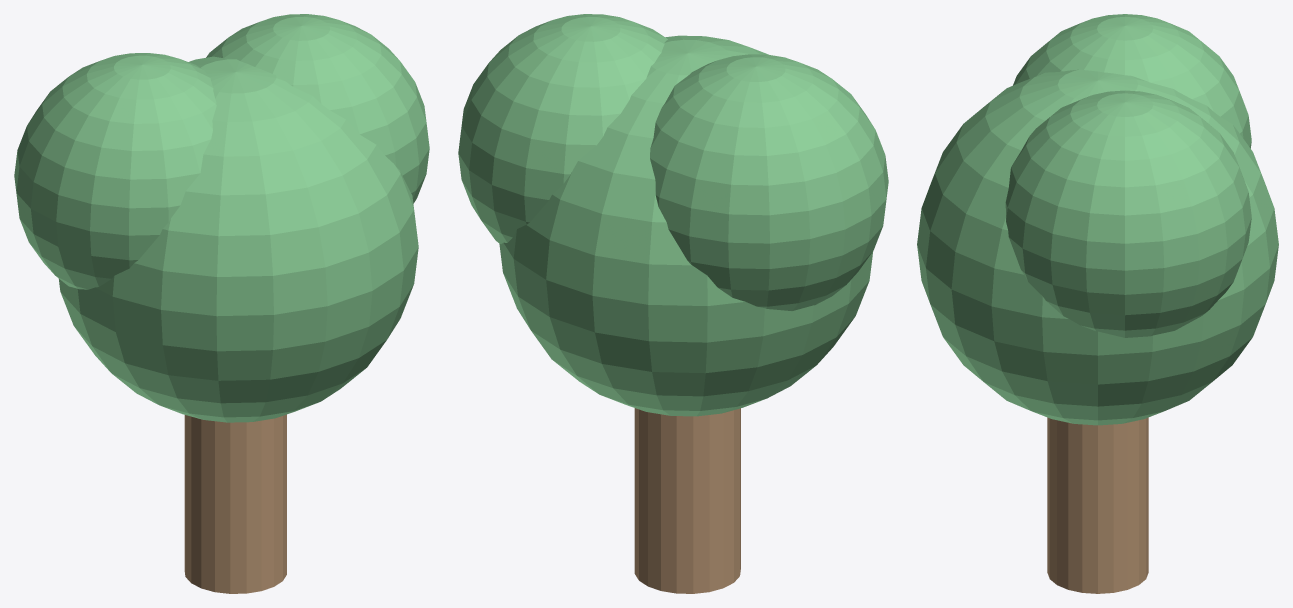
The model's file is appletree.glb.
3 renders of one model, left to right at view 1: azimuth 30°, elevation 25°; view 2: azimuth 150°, elevation 25°; view 3: azimuth 270°, elevation 25°, orthographic. The views are drawn at different scales.
Visible parts, largest first — view 1: AtFol1, AtFol3, AtTrunk, AtFol2; view 2: AtFol1, AtFol3, AtFol2, AtTrunk; view 3: AtFol1, AtFol2, AtTrunk, AtFol3.
Boxes of the visible parts, x1,y1,x2,y2 form: AtFol1: (59, 56, 418, 422); AtFol3: (14, 53, 216, 289); AtTrunk: (184, 414, 286, 593); AtFol2: (206, 14, 429, 203); AtFol1: (499, 35, 872, 416); AtFol3: (650, 54, 888, 310); AtFol2: (458, 14, 667, 243); AtTrunk: (634, 408, 740, 593); AtFol1: (917, 69, 1278, 425); AtFol2: (1005, 90, 1251, 337); AtTrunk: (1047, 417, 1148, 593); AtFol3: (1013, 14, 1251, 148).
Bounding box in the file's own units: 2.4 × 3.1 × 2.
